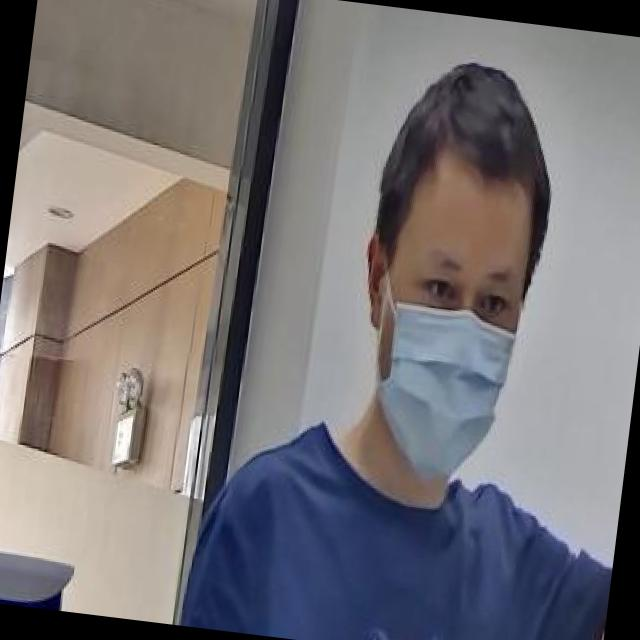Guns: (606, 246, 640, 529)
